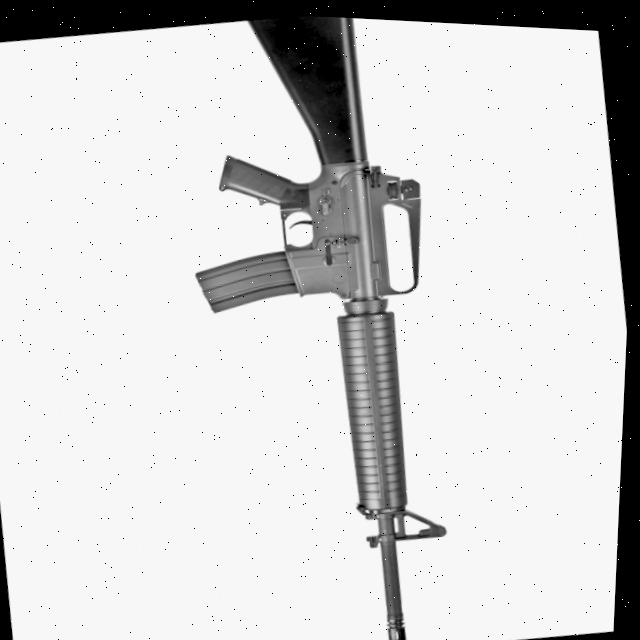firearm: (150, 7, 494, 640)
